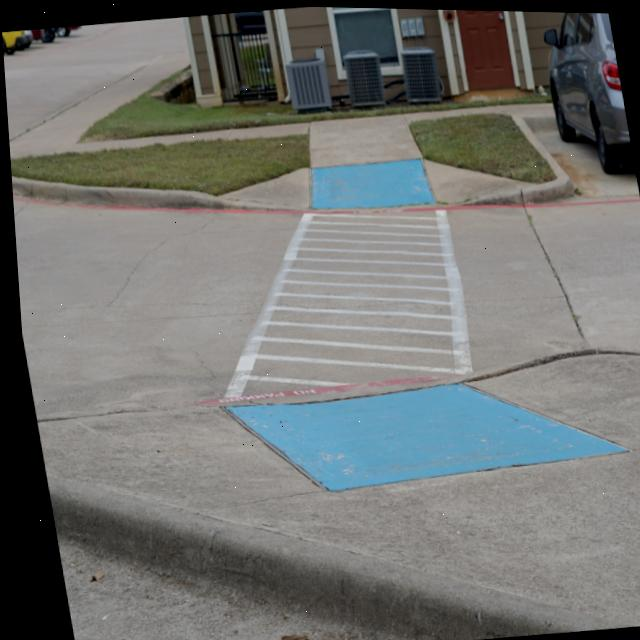Automobile: (543, 10, 628, 170), (2, 25, 80, 54), (233, 9, 266, 31)
Road: (10, 129, 640, 419), (49, 535, 432, 640)
Sidewalk: (31, 350, 640, 625), (7, 56, 571, 207), (399, 100, 551, 121)
